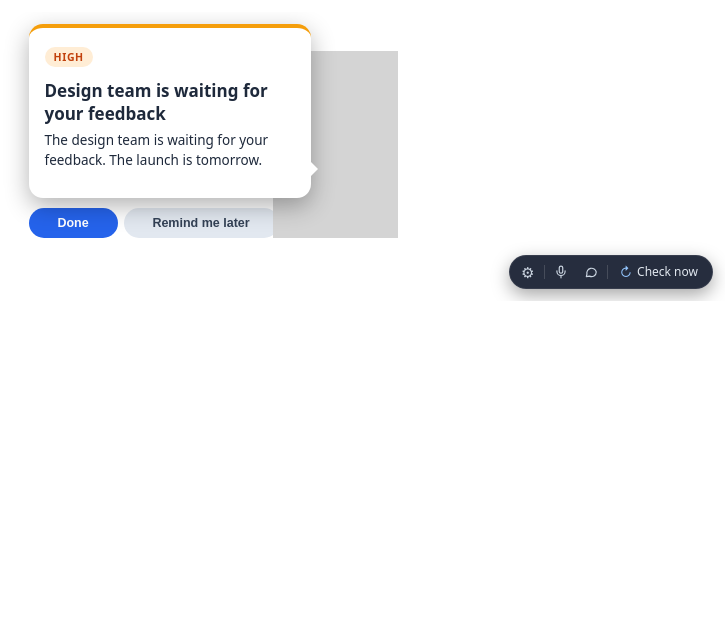
Test case: desktop overlay › Settings panel shows whether the Groq key is configured and Google's connection status
Expected: the element with test id "intervention-card" is shown, top-left (28, 24), bottom-right (398, 238)
Click the button named "Settings": (528, 272) top-left (514, 259), bottom-right (542, 285)
(page scrolled)
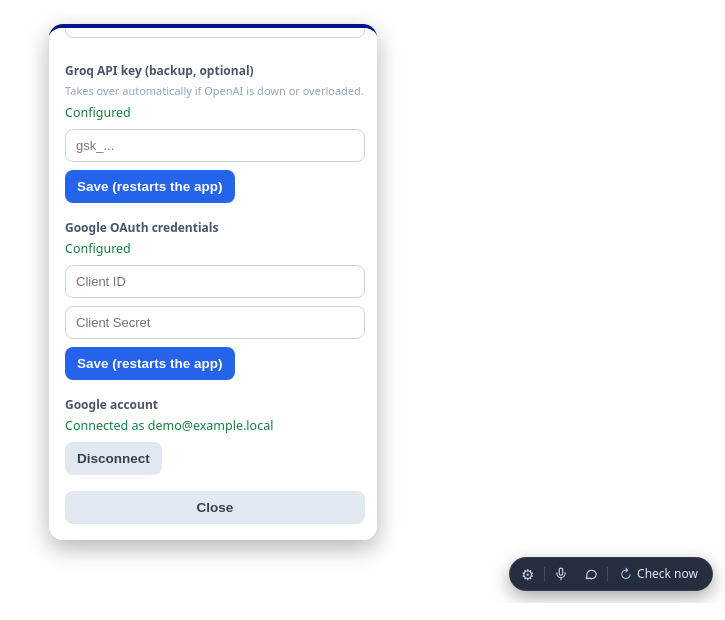
Now the element with test id "settings-card" shows "Configured", box top-left (65, 104), bottom-right (131, 121)
Now the element with test id "settings-card" shows "Connected as demo@example.local", box top-left (49, 24), bottom-right (377, 540)
Now the button "Disconnect" is shown, box top-left (65, 442), bottom-right (162, 475)
